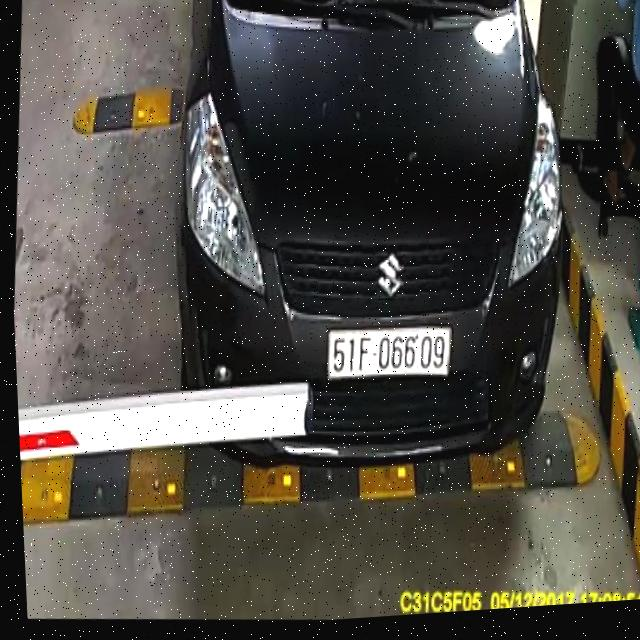car: (149, 0, 594, 501)
plate: (321, 320, 458, 395)
